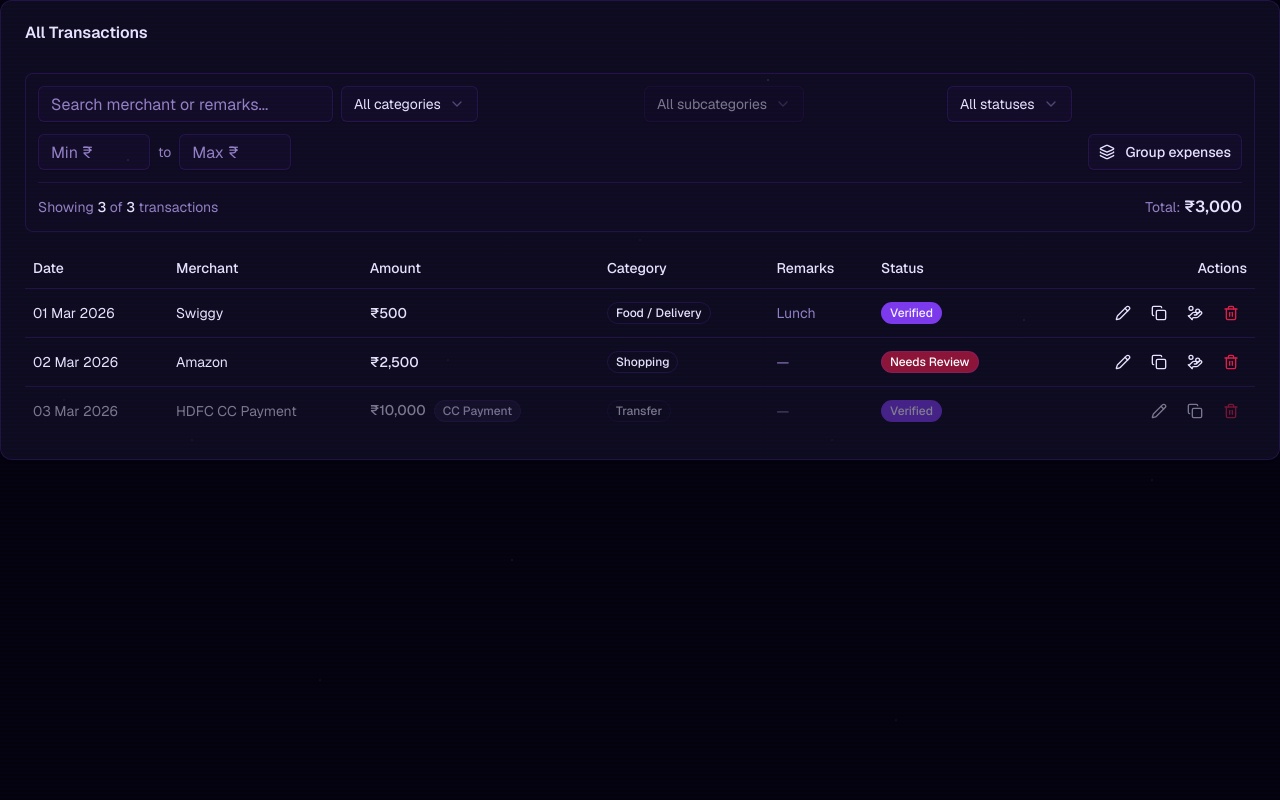
it: TransactionTable filters › clears all filters when Clear filters is clicked
Type "swiggy" into the field named "Search transactions" at (186, 104), box [38,86,333,122]
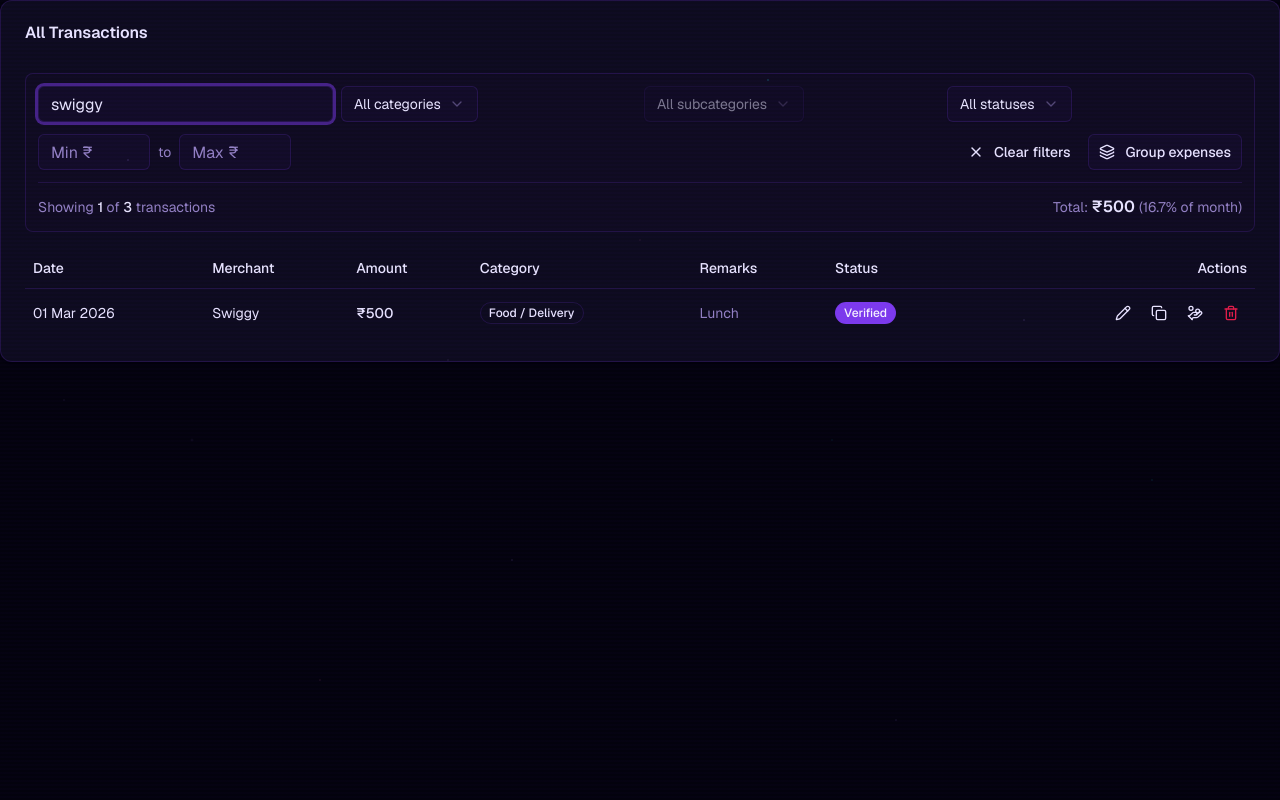
expect the text "Showing 1 of 3 transactions" is shown: met, box [38,197,215,217]
Click the button "Clear filters" at (1019, 152), box [958,134,1080,170]
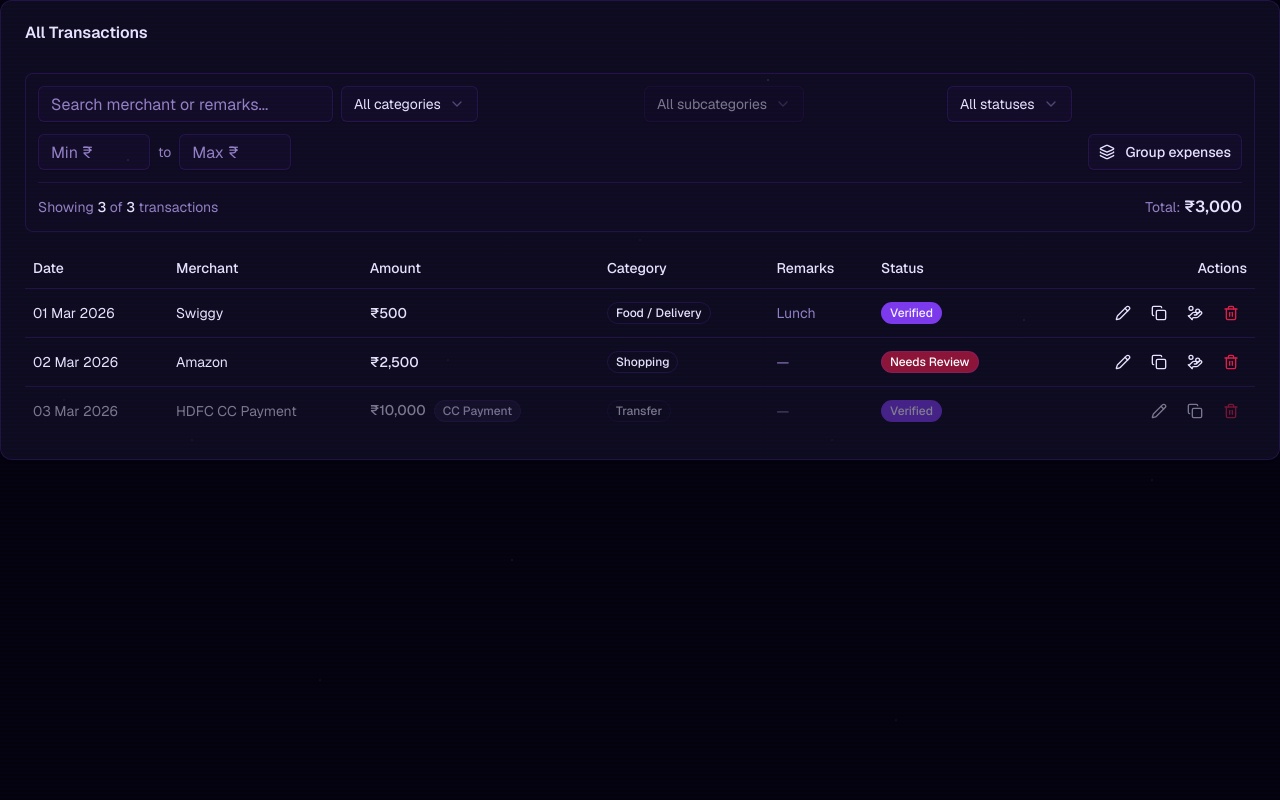
expect the text "Showing 3 of 3 transactions" is shown: met, box [38,197,218,217]
